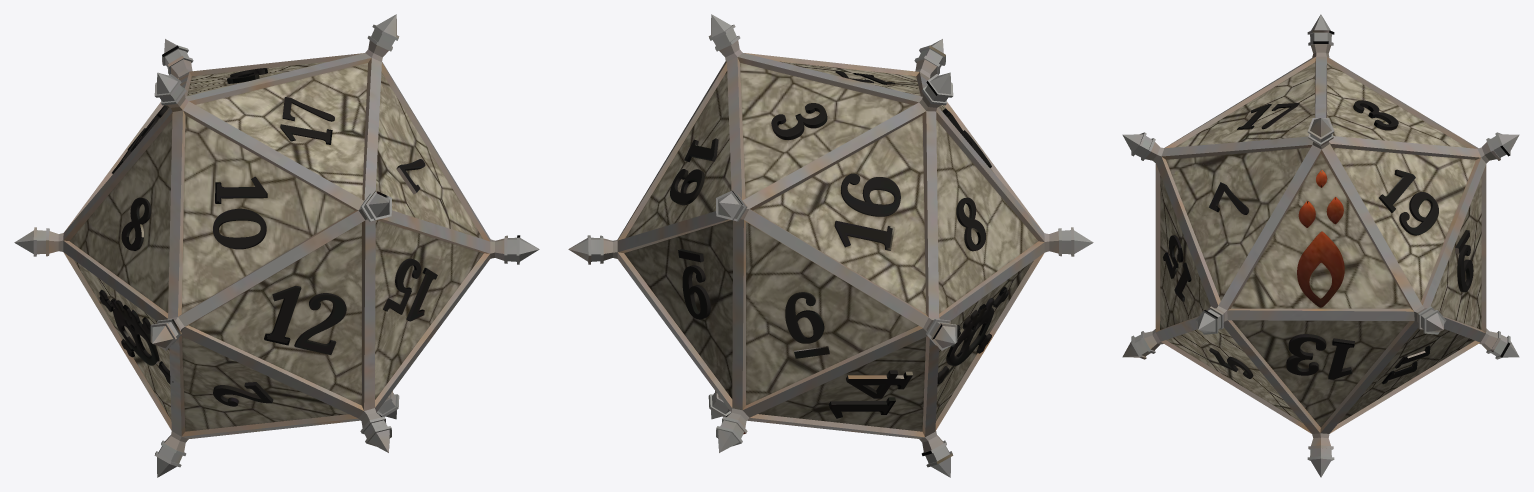
File: cairn-d20.glb
The picture shows the model from 3 angles, left to right: view 1: azimuth 30°, elevation 25°; view 2: azimuth 150°, elevation 25°; view 3: azimuth 270°, elevation 25°; orthographic projection. The views are drawn at different scales.
Visible parts, largest first — view 1: TargetD20; view 2: TargetD20; view 3: TargetD20.
Part boxes in pixels (x1,y1,x2,y2): TargetD20: [14, 14, 539, 477]; TargetD20: [568, 14, 1093, 477]; TargetD20: [1122, 14, 1519, 477].
Size of the model in its own units: 206 by 206 by 206.
Materials: 1 (1 with a texture image).
